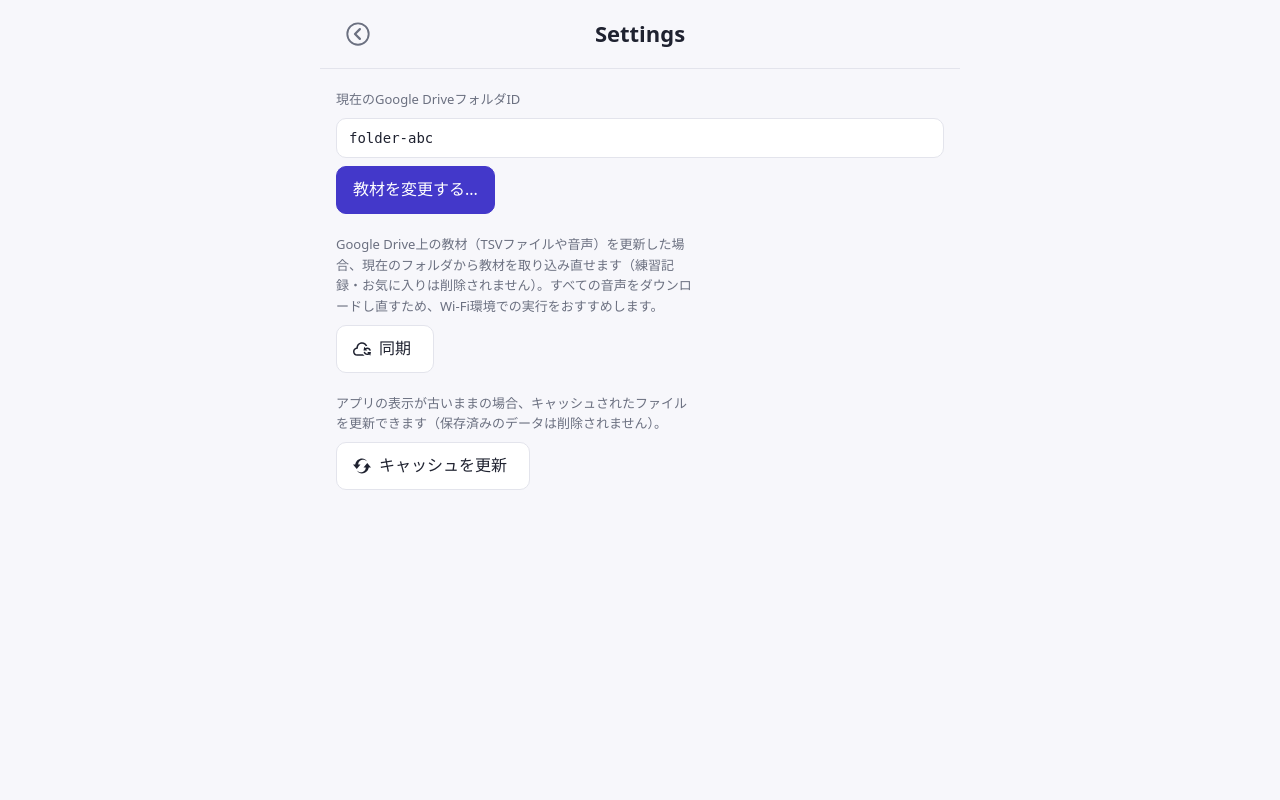
Test: SettingsScreen › 教材変更ポップアップ › 「教材を変更する...」でポップアップが開き、空の入力欄・変更して同期・キャンセルが表示される
Click the button "教材を変更する...": (415, 190) [336, 166, 495, 214]
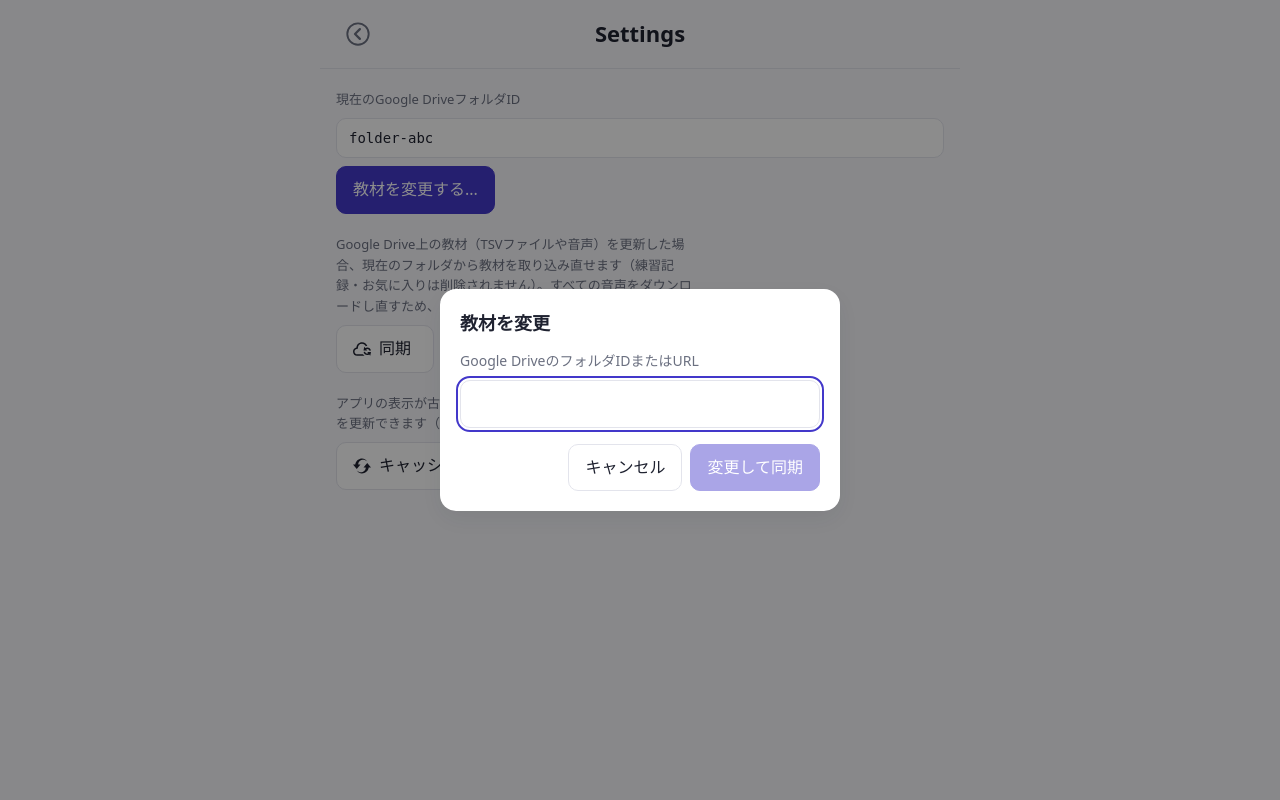
Result: the field labelled "Google DriveのフォルダIDまたはURL" is empty at [460, 380, 820, 428]
Result: the button "変更して同期" is shown at [690, 444, 820, 491]
Result: the button "キャンセル" is shown at [568, 444, 682, 491]
